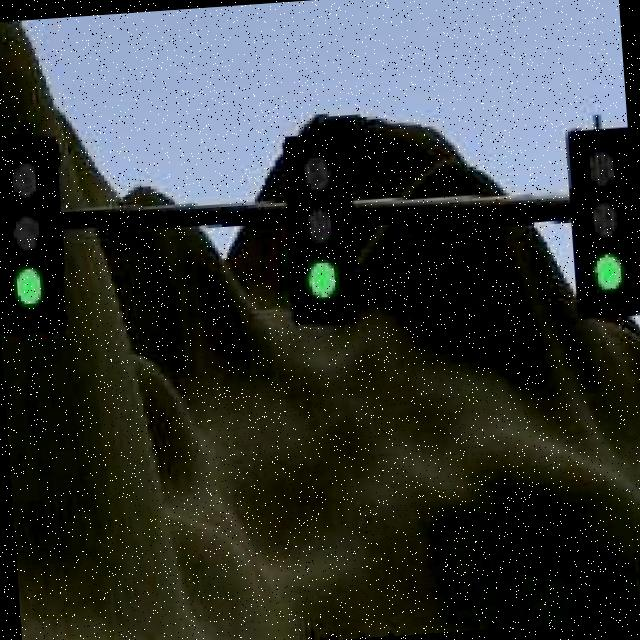Zielone swiatlo: (0, 133, 72, 337), (284, 132, 357, 324), (567, 127, 640, 317)
